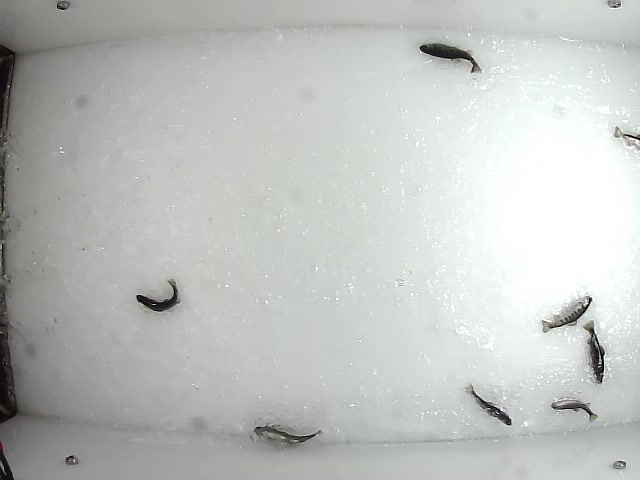fish: (462, 382, 513, 427), (417, 42, 484, 76), (540, 292, 592, 335), (134, 276, 182, 313), (252, 424, 324, 448), (583, 319, 606, 385), (549, 398, 599, 424)
